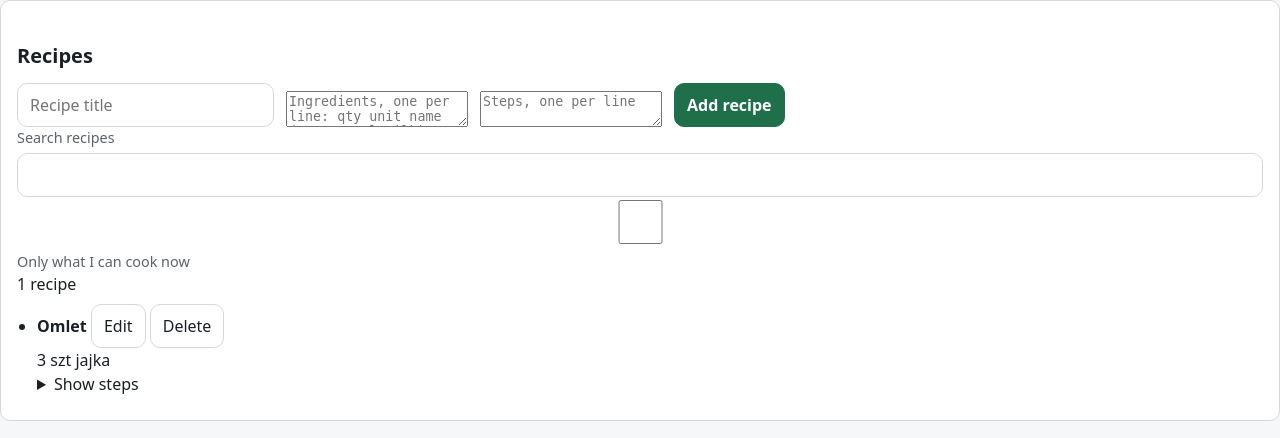
Scenario: RecipesView › cancels the confirmation on Escape and on blur
Click the button with aria-label "Delete Omlet" at (187, 326), box [150,304,224,348]
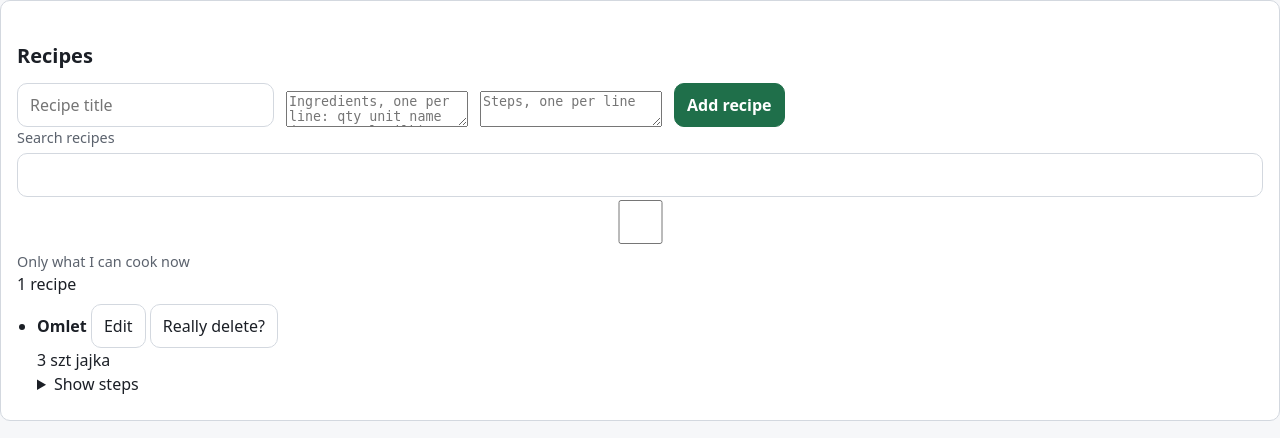
Press Escape in the button named "Delete Omlet", box [150,304,278,348]
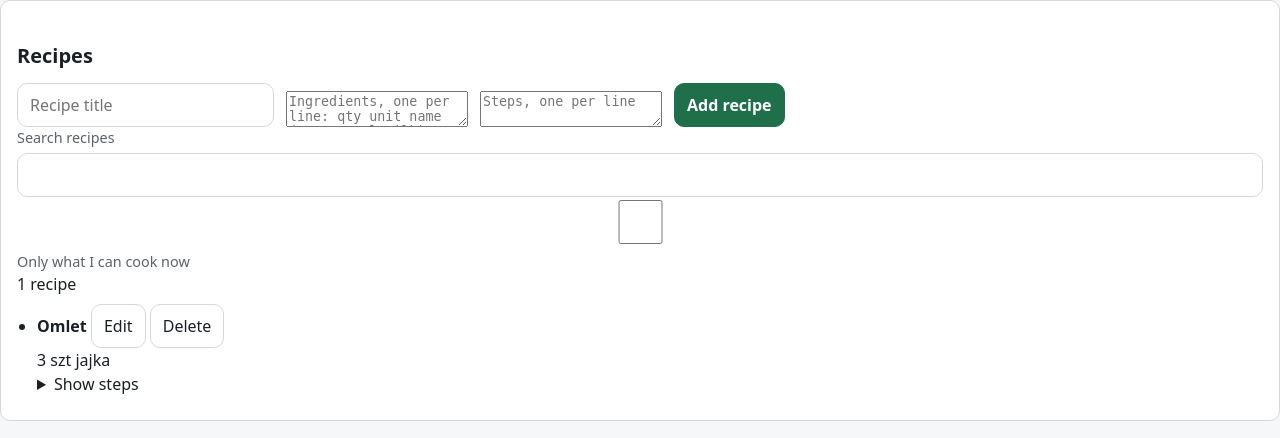
Now the button with aria-label "Delete Omlet" is shown
Click the button with aria-label "Delete Omlet" at (187, 326), box [150,304,224,348]
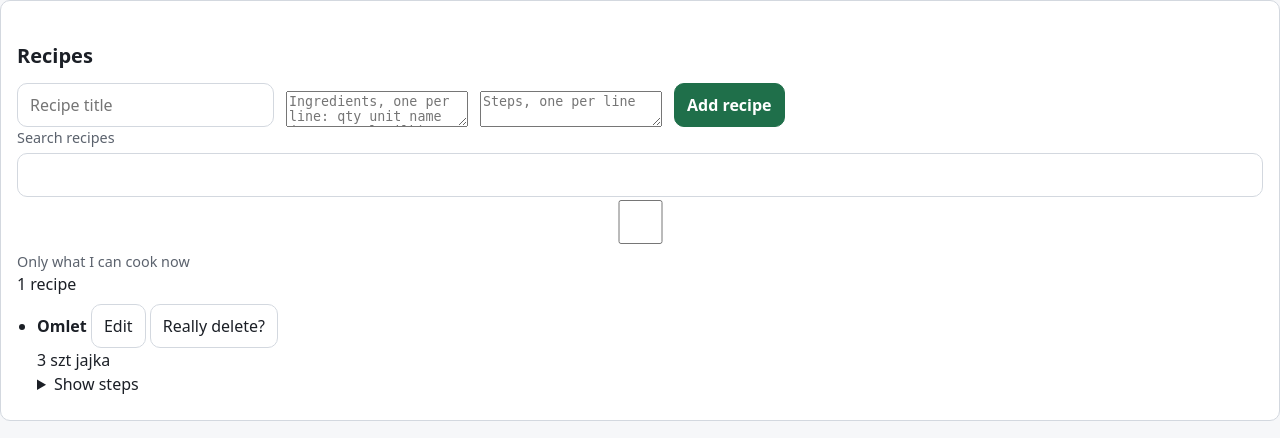
Leave the button with aria-label "Really delete? Omlet", box [150,304,278,348]
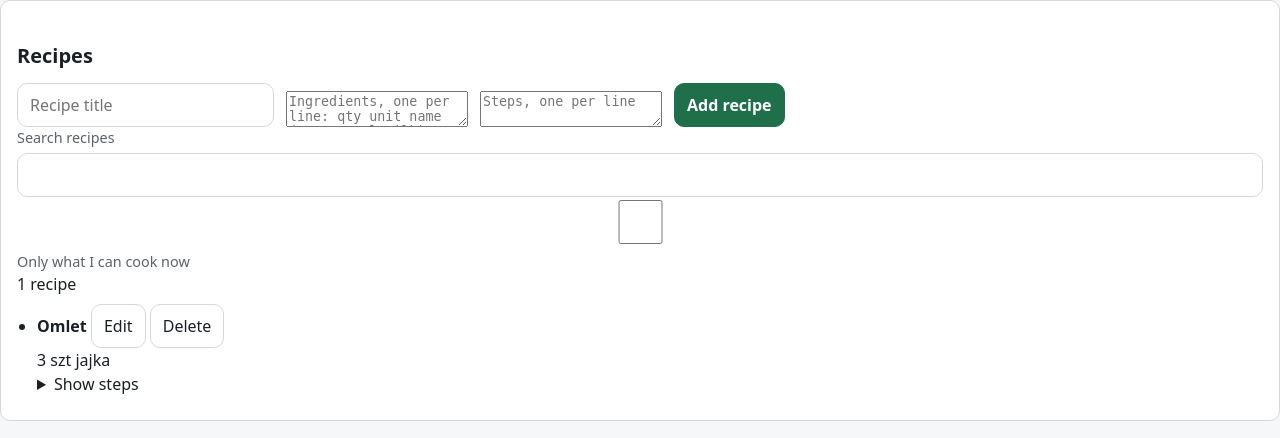
Now the button with aria-label "Delete Omlet" is shown, box [150,304,224,348]
